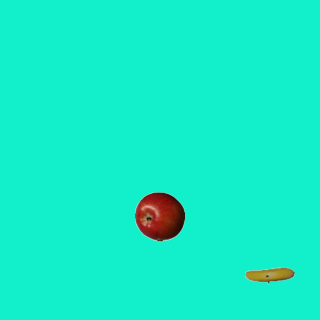Apple Braeburn: (134, 191, 184, 241)
Banana: (244, 250, 294, 300)
